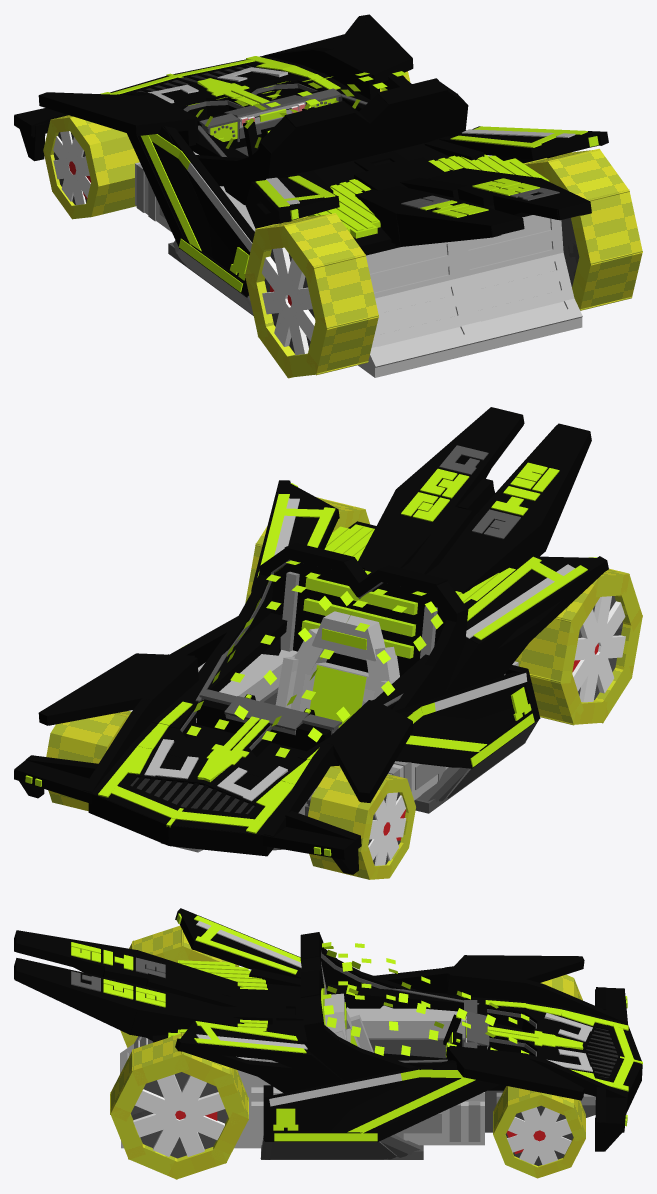
The model's file is free_hot_wheels_acceleracers_-_rd02.glb.
The picture shows the model from 3 angles, top to bottom: view 1: azimuth 30°, elevation 25°; view 2: azimuth 150°, elevation 25°; view 3: azimuth 270°, elevation 25°; orthographic projection. The views are drawn at different scales.
Visible parts, largest first — view 1: backwheels_main_645, part1_356, part2_422, part2_408, part2_419, part2_407, bone3_700, front_left_705, part1_317, part1_365, part2_418, part1_366 (+60 smaller); view 2: backwheels_main_645, part1_356, part1_173, part1_82, part1_174, seat_548, part1_133, front_left_705, part1_222, int_492, bone3_695, part1_129 (+72 smaller); view 3: backwheels_main_645, front_right_675, part2_455, part1_340, part2_379, part1_64, part1_149, part1_337, part1_205, part1_5, part1_86, part1_351 (+81 smaller).
Boxes of the visible parts, x1,y1,x2,y2 form: backwheels_main_645: [244, 148, 642, 378]; part1_356: [278, 107, 457, 178]; part2_422: [374, 261, 560, 335]; part2_408: [367, 219, 552, 292]; part2_419: [368, 307, 582, 371]; part2_407: [358, 317, 582, 377]; bone3_700: [84, 136, 139, 186]; front_left_705: [53, 131, 90, 205]; part1_317: [155, 132, 212, 257]; part1_365: [354, 157, 447, 190]; part2_418: [367, 301, 566, 372]; part1_366: [309, 142, 449, 187]; backwheels_main_645: [245, 497, 642, 725]; part1_356: [271, 566, 446, 676]; part1_173: [359, 424, 498, 570]; part1_82: [152, 613, 287, 723]; part1_174: [440, 443, 578, 593]; seat_548: [309, 665, 366, 727]; part1_133: [167, 825, 273, 856]; front_left_705: [368, 792, 406, 865]; part1_222: [404, 506, 473, 574]; int_492: [197, 699, 330, 751]; bone3_695: [308, 796, 374, 851]; part1_129: [88, 794, 169, 845]; backwheels_main_645: [110, 925, 248, 1179]; front_right_675: [505, 1105, 573, 1165]; part2_455: [351, 1005, 465, 1038]; part1_340: [331, 1063, 453, 1132]; part2_379: [263, 1142, 378, 1159]; part1_64: [325, 984, 525, 1011]; part1_149: [447, 971, 525, 1000]; part1_337: [273, 1080, 410, 1123]; part1_205: [14, 967, 137, 1017]; part1_5: [463, 1067, 584, 1100]; part1_86: [175, 1038, 311, 1062]; part1_351: [373, 1081, 499, 1142].
Bounding box in the file's own units: 2.1 × 1.19 × 4.1.
Materials: 1 (1 with a texture image).
